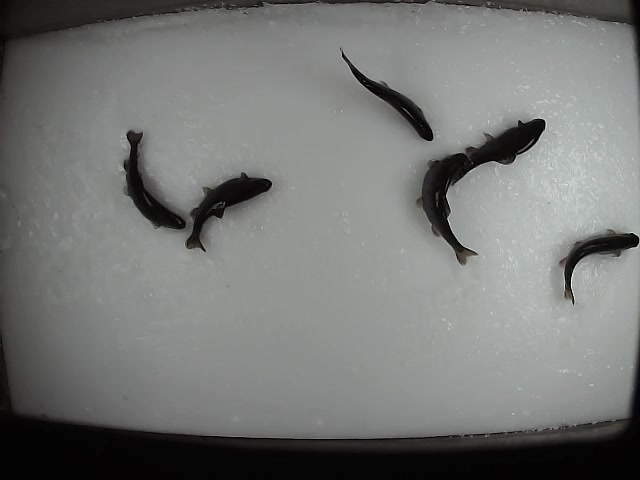Fish: (340, 47, 433, 141), (415, 152, 478, 266), (185, 172, 272, 251), (448, 118, 546, 185), (123, 130, 186, 230), (559, 229, 640, 304)
